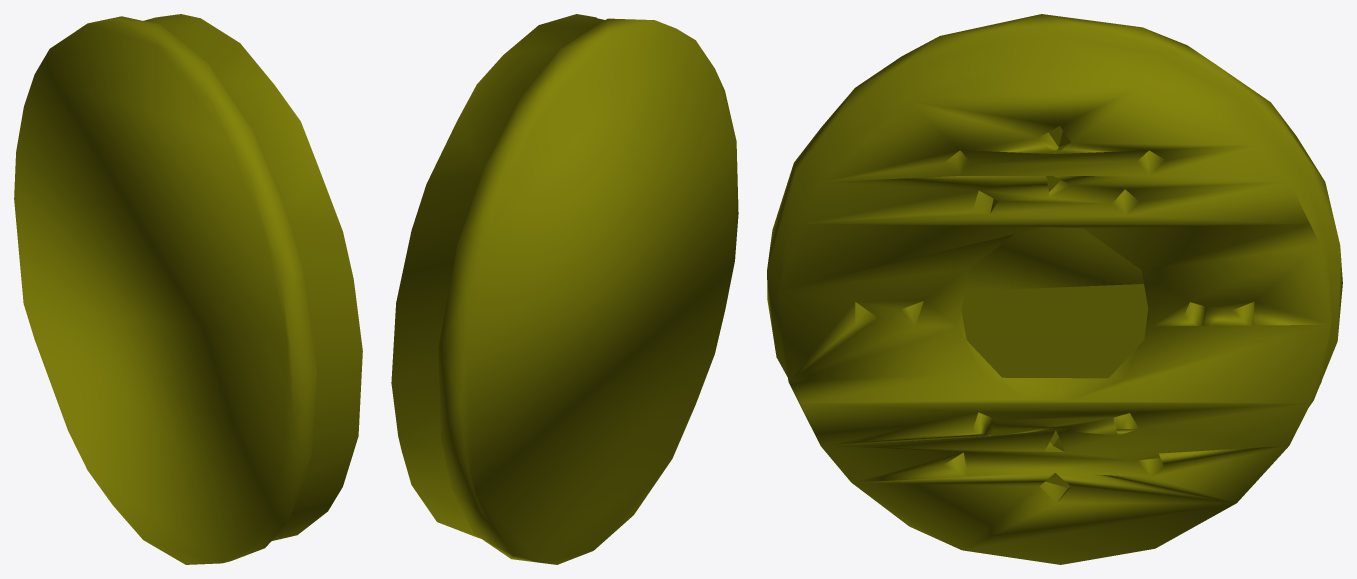
3 views of the same model, side by side, from view 1: azimuth 30°, elevation 25°; view 2: azimuth 150°, elevation 25°; view 3: azimuth 270°, elevation 25° (orthographic). The views are drawn at different scales.
Parts seen in each view (by area): view 1: mh00215-j00_lk6; view 2: mh00215-j00_lk6; view 3: mh00215-j00_lk6.
Boxes of the visible parts, left/top/right/bottom form: mh00215-j00_lk6: left=14, top=14, right=362, bottom=564; mh00215-j00_lk6: left=391, top=14, right=738, bottom=564; mh00215-j00_lk6: left=767, top=14, right=1342, bottom=564.
Size of the model in its own units: 0.0304 by 0.1874 by 0.1869.
